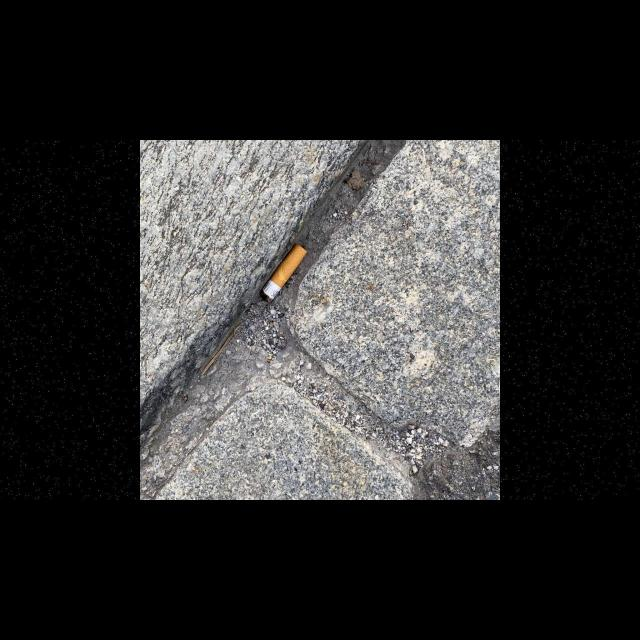cigarette: (260, 243, 308, 302)
